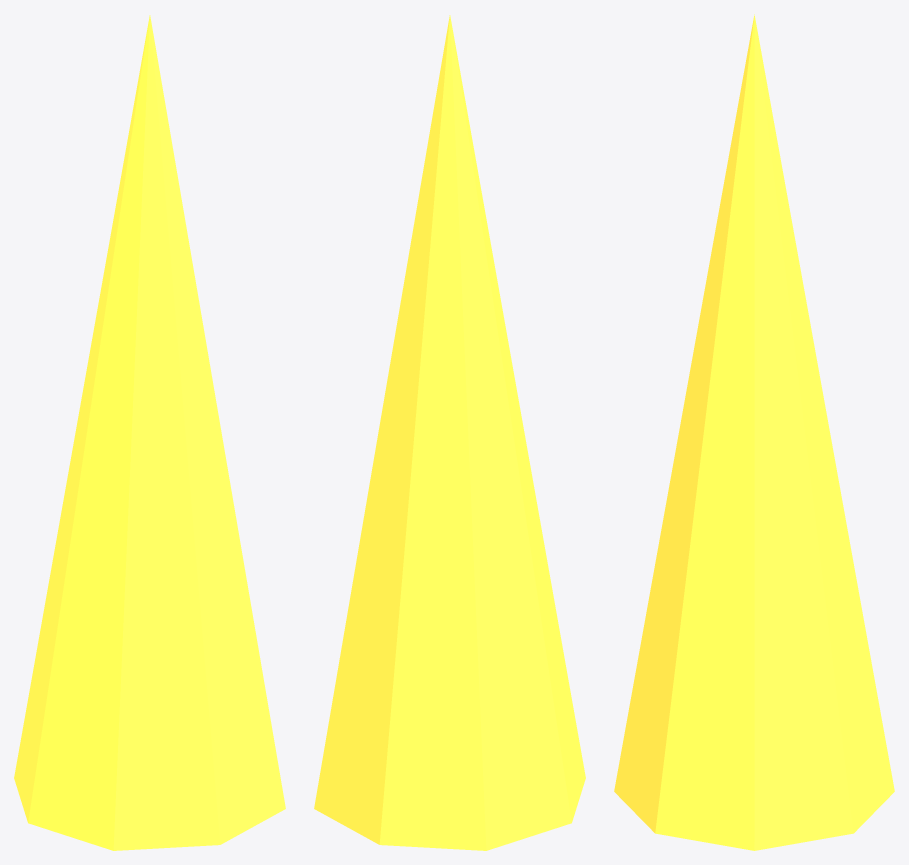
Rendered from SM_Keeper_Seraphs_Ember8.fbx.
The picture shows the model from 3 angles, left to right: view 1: azimuth 30°, elevation 25°; view 2: azimuth 150°, elevation 25°; view 3: azimuth 270°, elevation 25°; orthographic projection.
Parts seen in each view (by area): view 1: SM_Keeper_Seraphs_Ember8; view 2: SM_Keeper_Seraphs_Ember8; view 3: SM_Keeper_Seraphs_Ember8.
Boxes of the visible parts, <box> form: SM_Keeper_Seraphs_Ember8: <box>14,15,285,850</box>; SM_Keeper_Seraphs_Ember8: <box>314,15,585,850</box>; SM_Keeper_Seraphs_Ember8: <box>614,14,894,850</box>.
Size of the model in its own units: 0.36 by 1.1 by 0.36.
